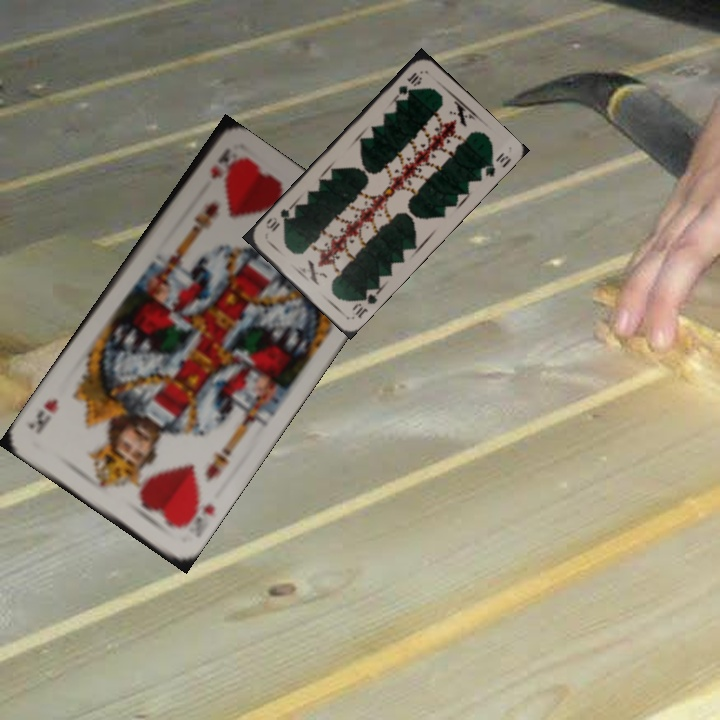G10: (391, 68, 424, 103), (348, 287, 381, 321)
HK: (175, 495, 218, 532), (206, 145, 233, 182)
